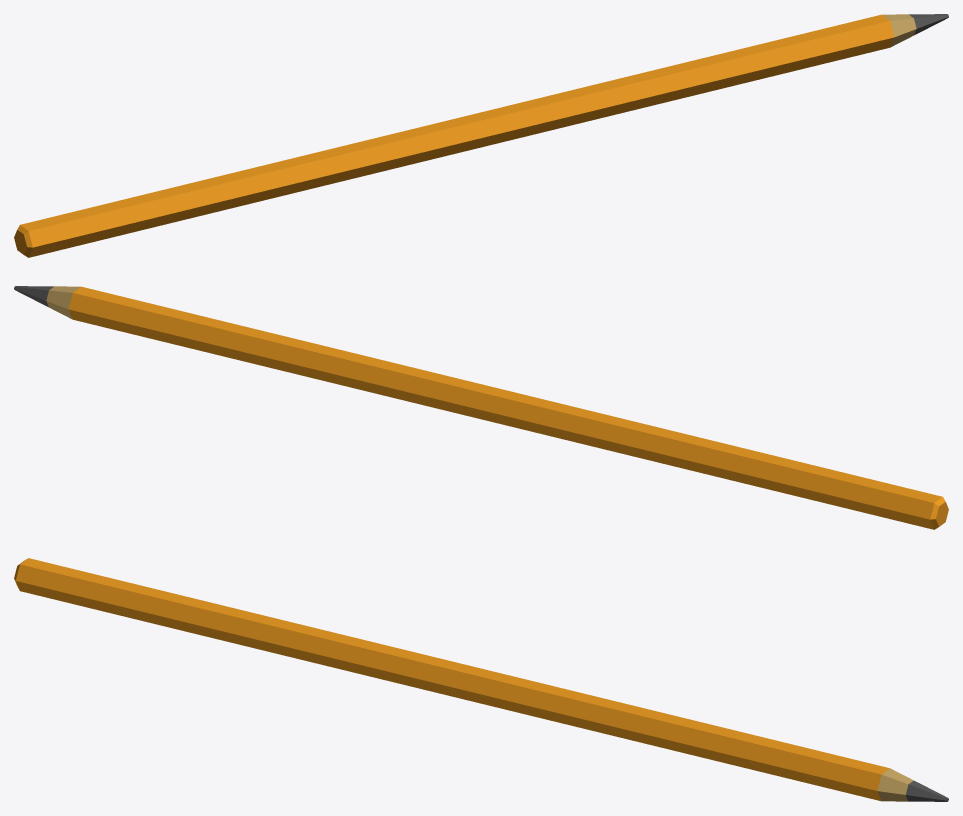
The model's file is Blyant_Orange.fbx.
3 views of the same model, one above another, from view 1: azimuth 30°, elevation 25°; view 2: azimuth 150°, elevation 25°; view 3: azimuth 330°, elevation 25° (orthographic).
Parts seen in each view (by area): view 1: Cylinder.008; view 2: Cylinder.008; view 3: Cylinder.008.
Part boxes in pixels (<box>): Cylinder.008: <box>14,14,948,257</box>; Cylinder.008: <box>14,286,948,529</box>; Cylinder.008: <box>14,558,948,801</box>.
Bounding box in the file's own units: 32.67 × 0.9034 × 1.04.
